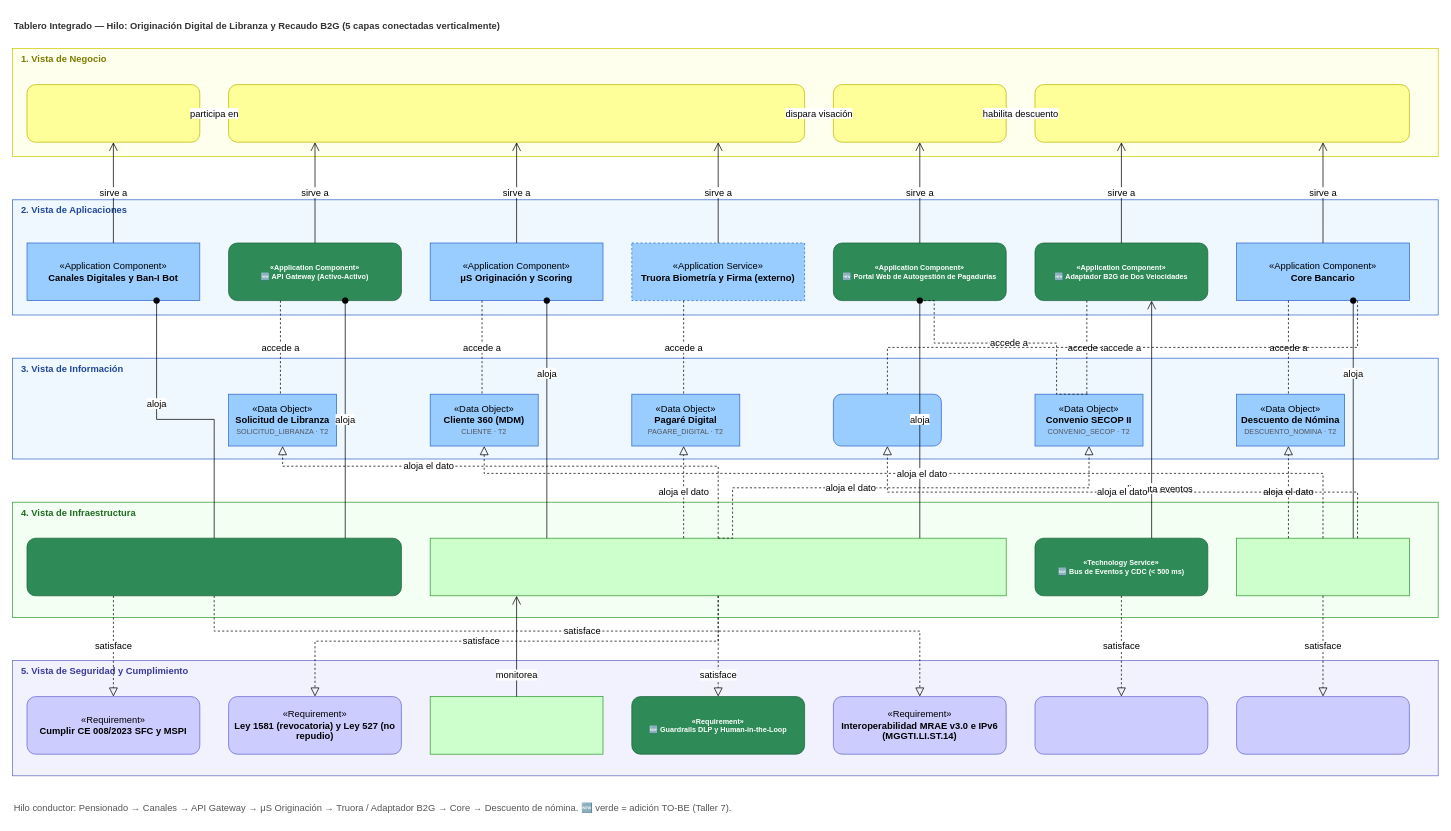
Some shapes in this 1451 by 831 pixel diagram are drawn without their labels. Each missing label, with the centre of its shape:
«Business Actor» Pagaduría Pública (G1–G5): (919,113)
«Business Actor» Pensionado / Empleado Público: (113,113)
«Business Process» Originación Digital de Crédito de Libranza (< 15 min): (516,113)
«Business Process» Recaudo B2G y Descuento de Nómina/Mesada: (1221,113)
«Data Object» Crédito de Libranza CREDITO_LIBRANZA · T2: (887,419)
«Node» Centro de Datos On-Premise: (1322,566)
«Node» Nube Pública (Kubernetes): (717,566)
«Node» SOC 24/7 (Monitoreo y Ciberseguridad): (516,725)
«Node» 🆕 Borde Dual-Stack IPv6/IPv4 y WAF: (213,566)
«Requirement» Continuidad y recuperación del Core (BCP/DRP): (1121,725)
«Requirement» Control de acceso y segregación de funciones (ISO/IEC 27001:2022): (1322,725)
